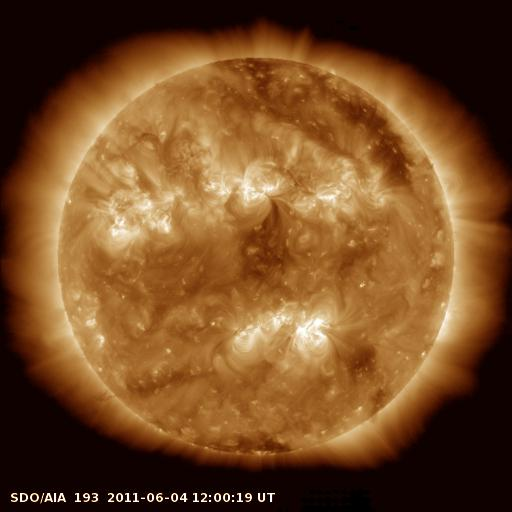coronal_hole: (323, 74, 416, 184), (226, 52, 288, 104), (197, 434, 304, 459)
